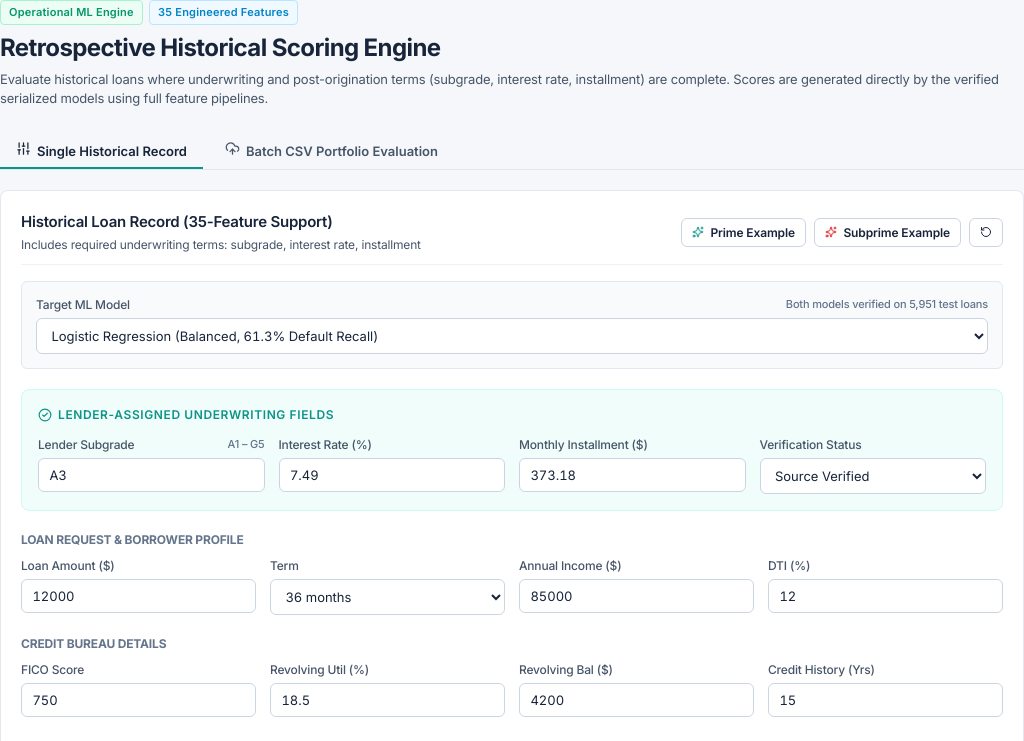
RetrospectiveScoringPage › renders single loan form and switches tabs
Check: the heading "Retrospective Historical Scoring Engine" is shown, box [0, 34, 440, 62]
Click the button "Batch CSV Portfolio Evaluation" at (331, 151), box [209, 133, 454, 169]
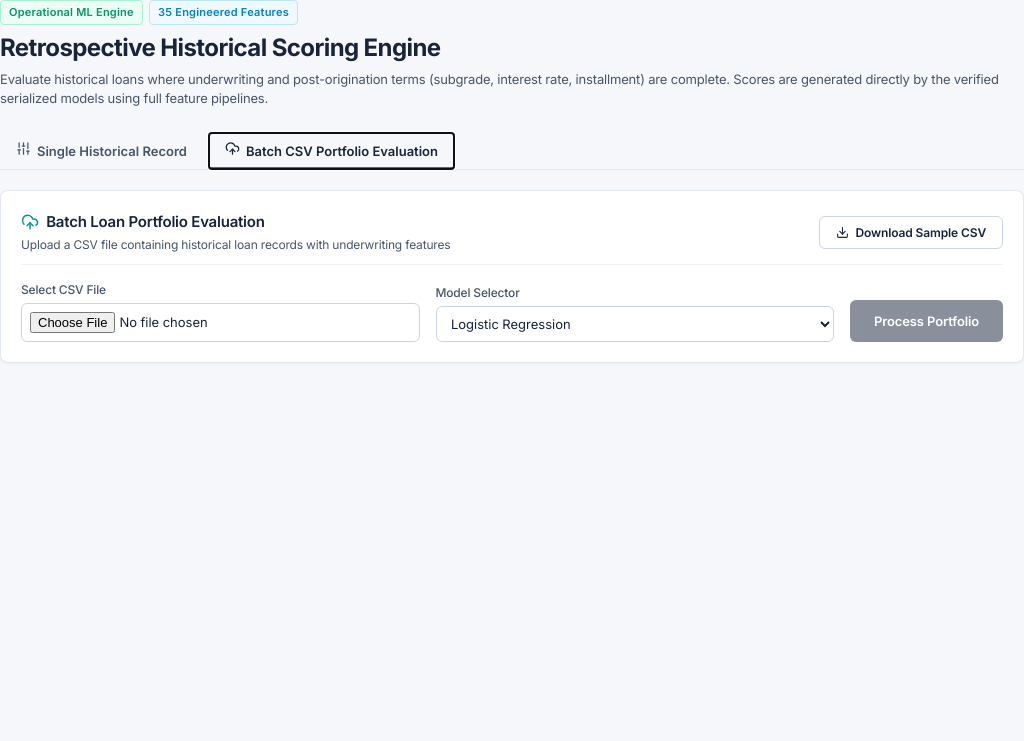
Check: the text "Batch Loan Portfolio Evaluation" is shown, box [46, 211, 265, 233]
Check: the button "Download Sample CSV" is shown, box [819, 216, 1003, 249]
